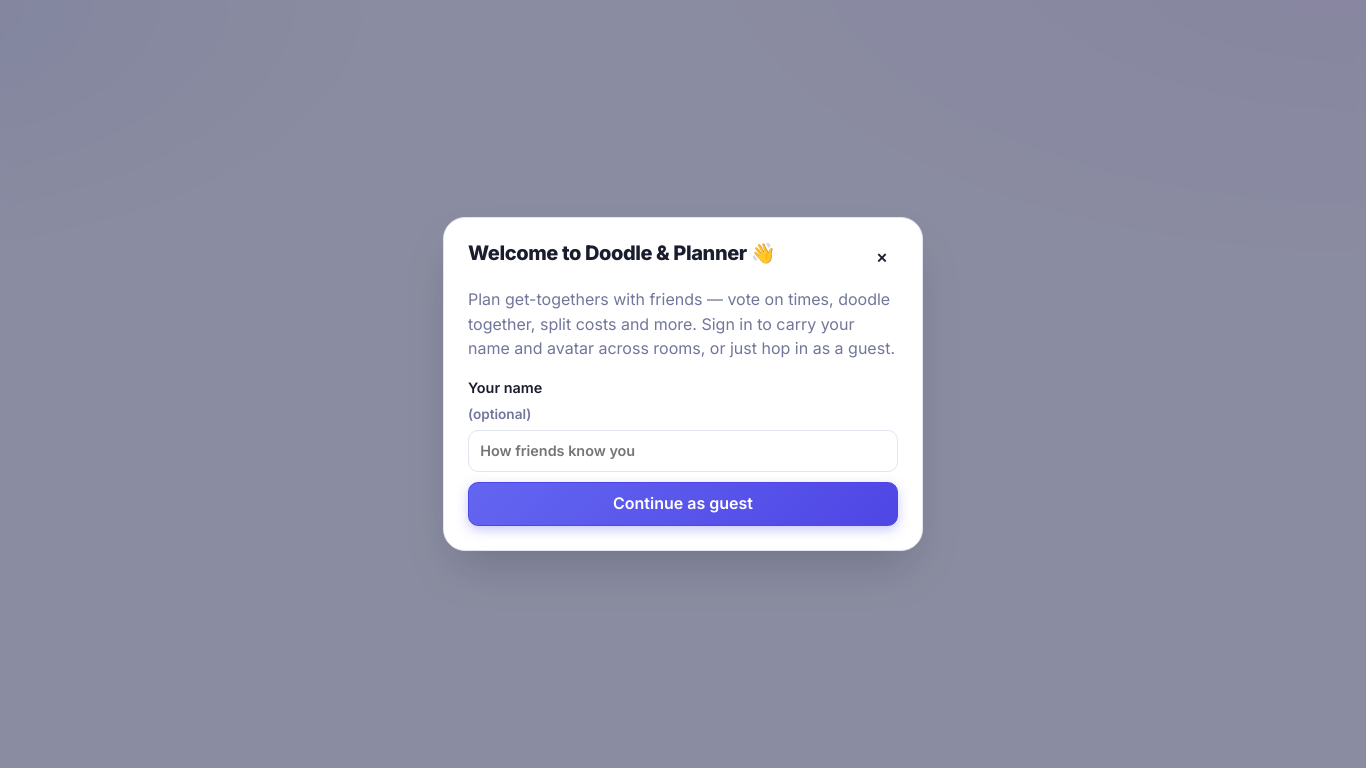
Test case: WelcomeModal › remembers the guest name and closes on continue
Type "Ada" into the field with placeholder "How friends know you" at x=683, y=451, box top-left (468, 430), bottom-right (898, 472)
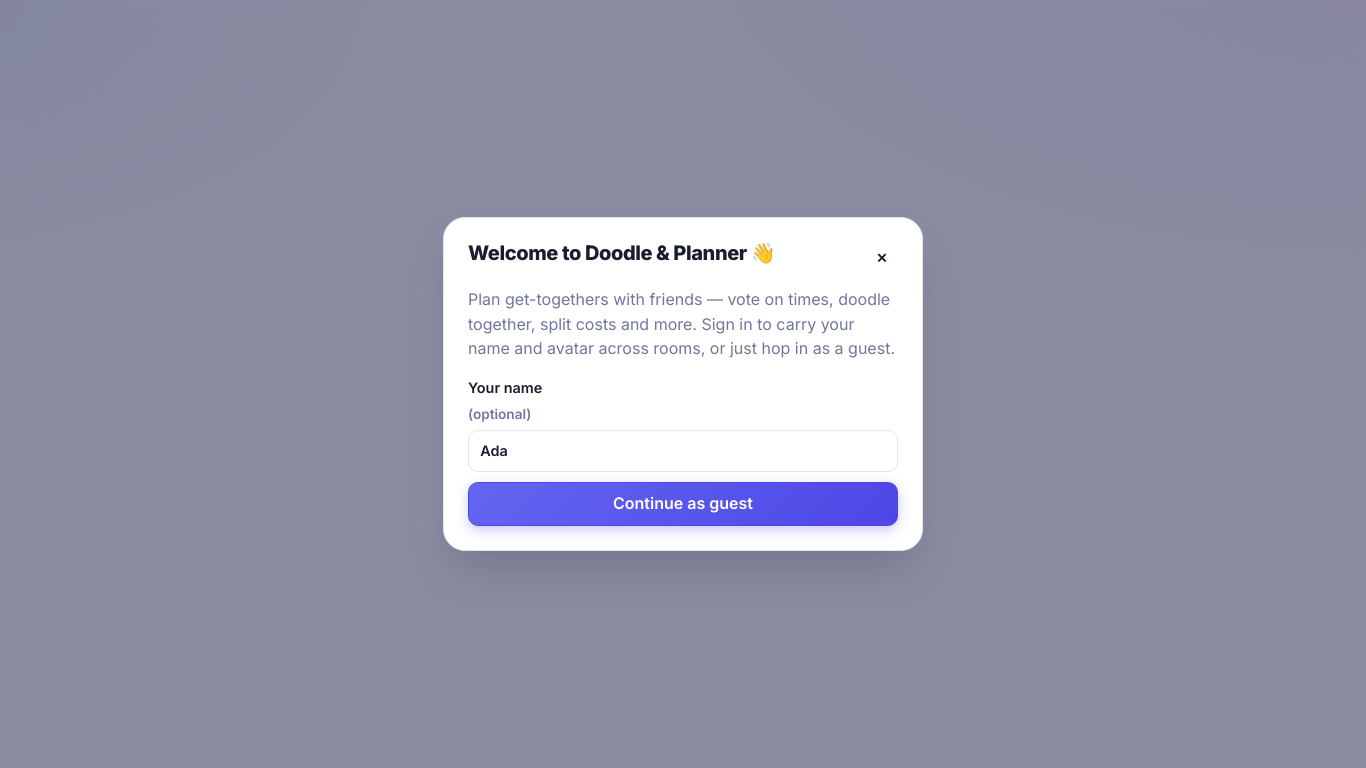
Click the button "Continue as guest" at x=683, y=504, box top-left (468, 482), bottom-right (898, 526)
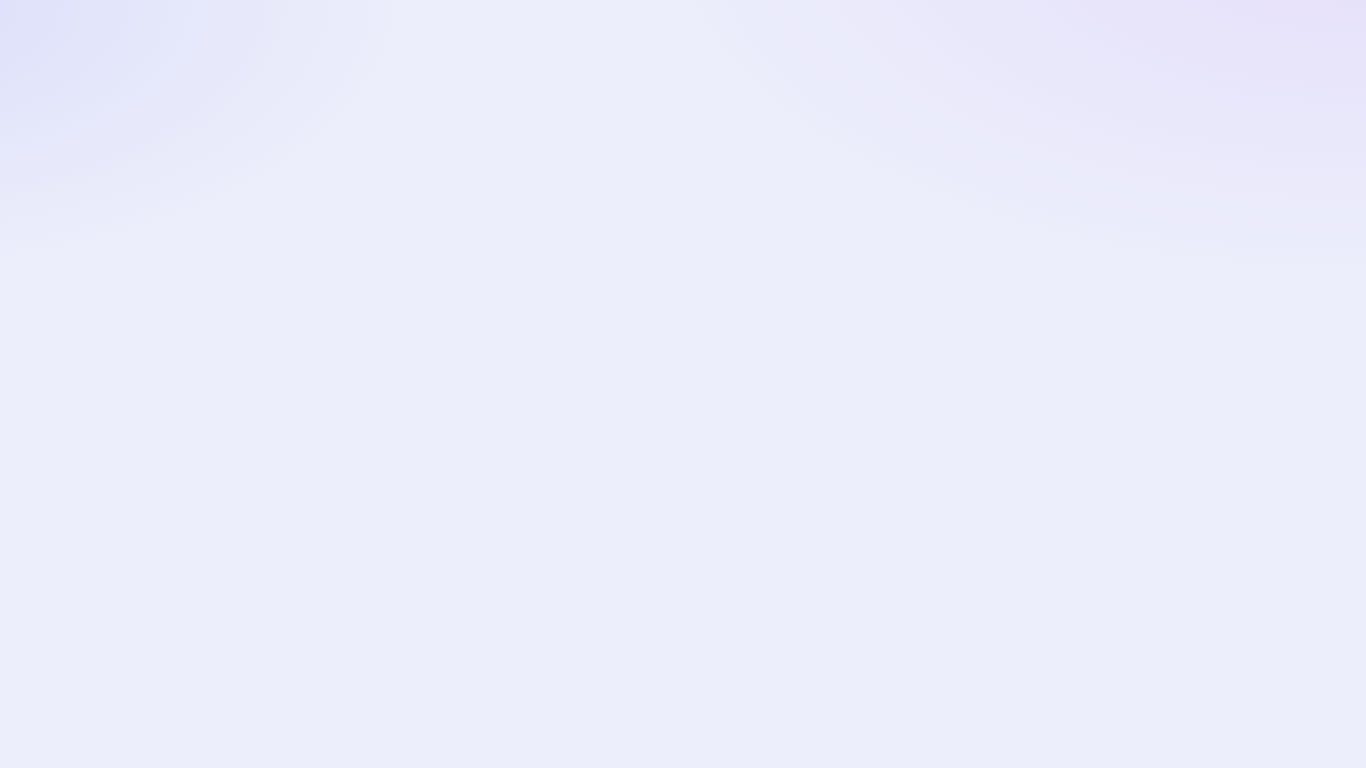
Result: the dialog is gone
